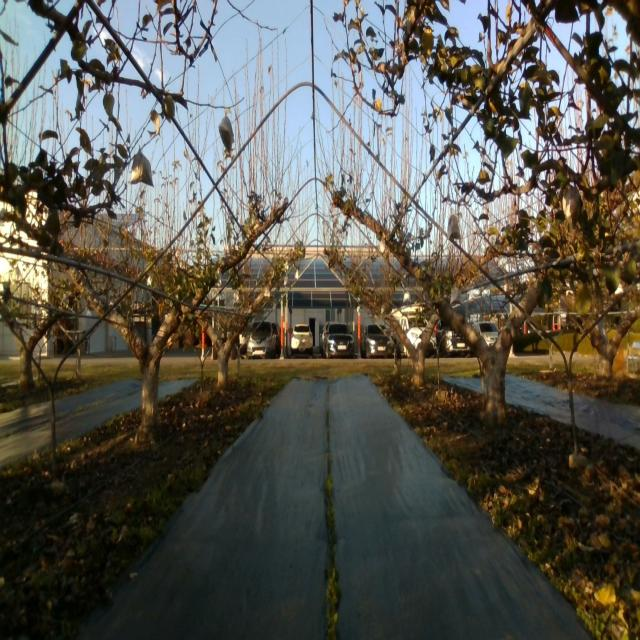pearbags: (130, 152, 154, 187), (563, 185, 581, 230), (219, 116, 234, 152), (447, 215, 461, 241), (450, 287, 462, 305)
